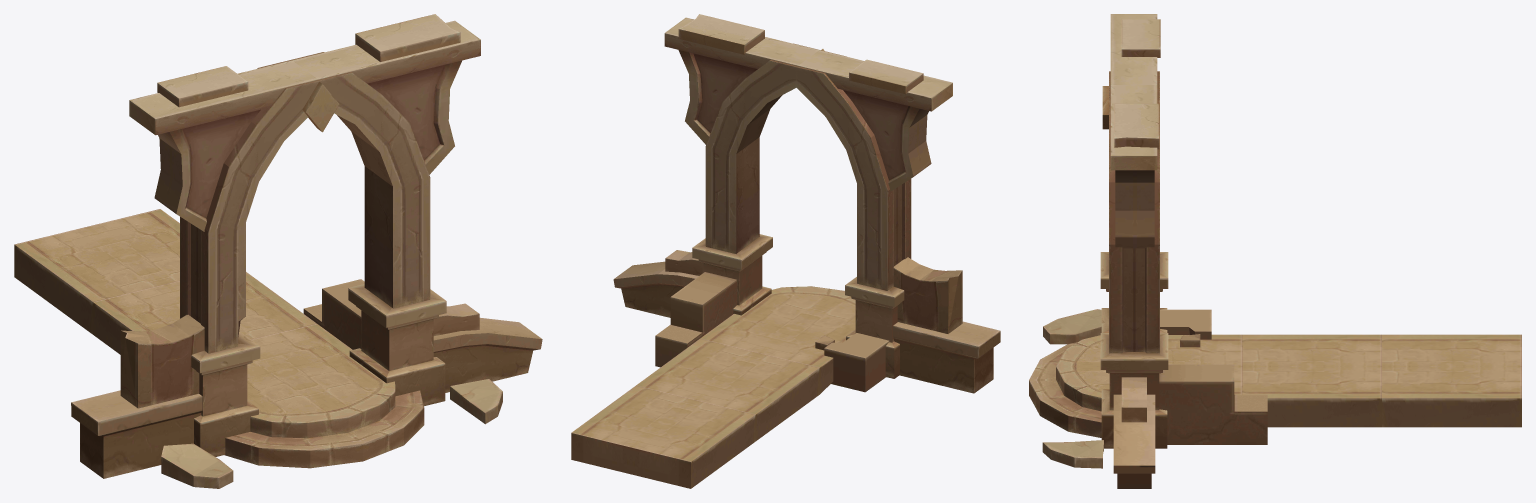
File: YiJi_shimen_01.fbx
The picture shows the model from 3 angles, left to right: view 1: azimuth 30°, elevation 25°; view 2: azimuth 150°, elevation 25°; view 3: azimuth 270°, elevation 25°; orthographic projection. The views are drawn at different scales.
Parts seen in each view (by area): view 1: YiJi_shimen_01; view 2: YiJi_shimen_01; view 3: YiJi_shimen_01.
Part boxes in pixels (x1,y1,x2,y2): YiJi_shimen_01: (14,14,542,488); YiJi_shimen_01: (571,14,1000,488); YiJi_shimen_01: (1029,14,1521,488).
Size of the model in its own units: 10.97 by 8.41 by 11.74.
